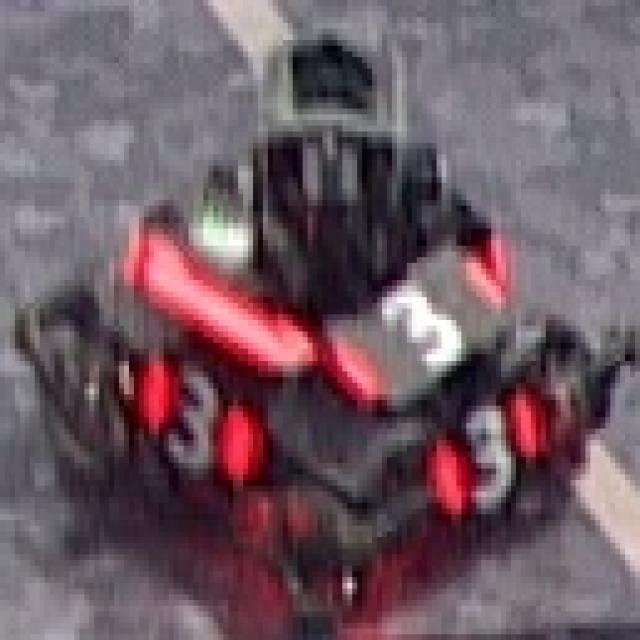R3: (337, 240, 511, 383), (129, 348, 268, 486), (436, 372, 540, 514)
